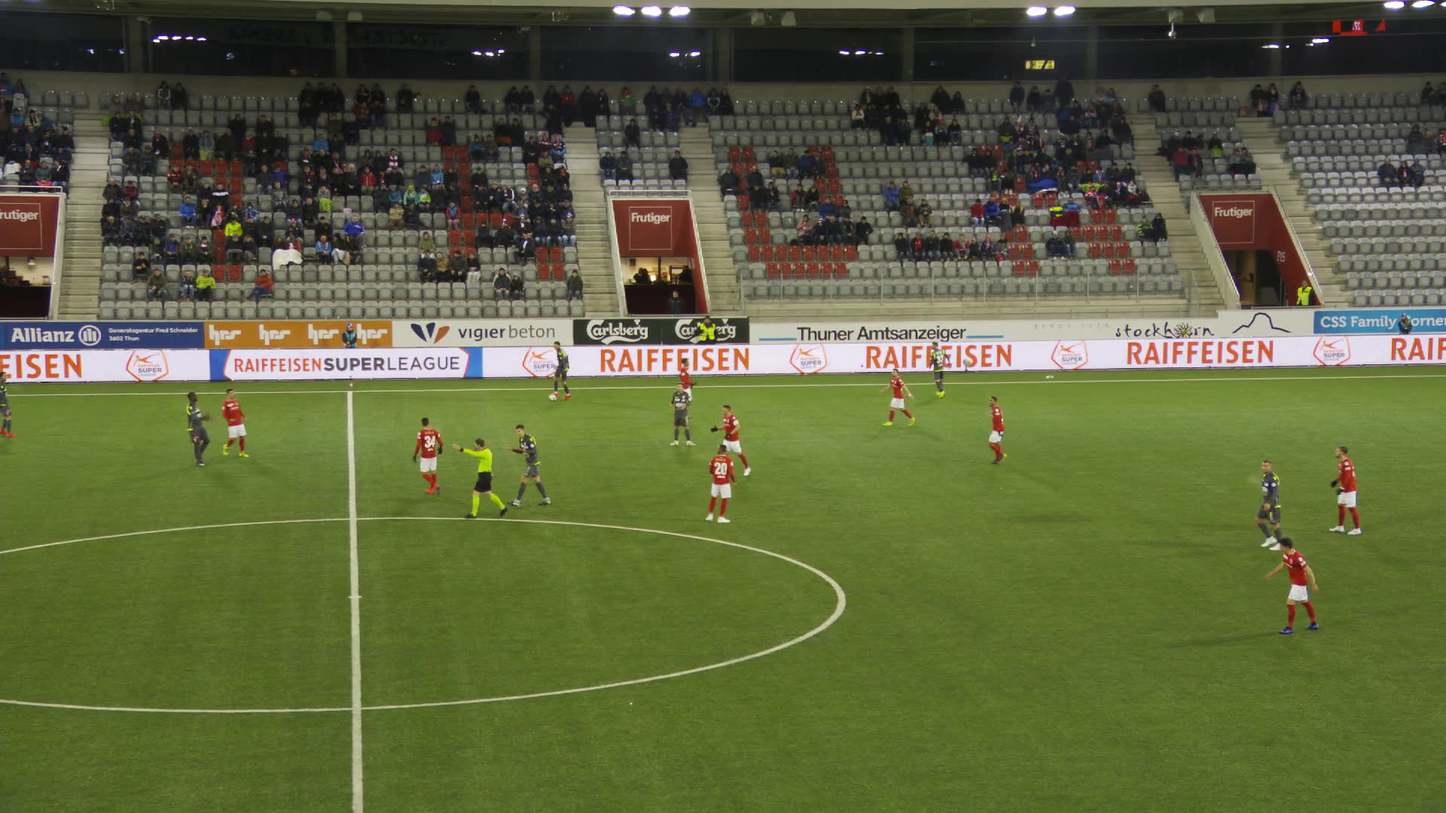ball: (548, 393, 556, 400)
player: (1269, 536, 1315, 632), (1326, 446, 1361, 535), (508, 422, 544, 505), (408, 418, 446, 495), (1255, 458, 1284, 550), (710, 403, 747, 475), (218, 388, 251, 457), (707, 444, 735, 523), (984, 396, 1016, 465), (877, 369, 914, 426), (183, 390, 209, 465), (549, 342, 577, 401), (667, 358, 694, 419), (668, 383, 692, 446), (928, 342, 947, 397), (0, 372, 14, 437)
referee: (451, 436, 504, 517)
